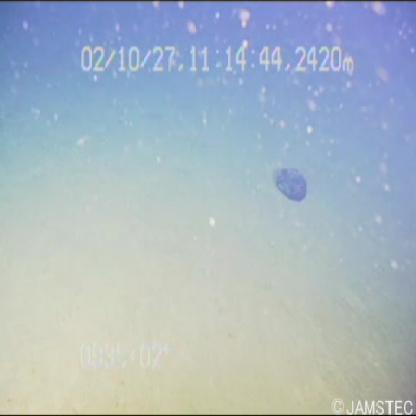Rác: (269, 154, 320, 206)
